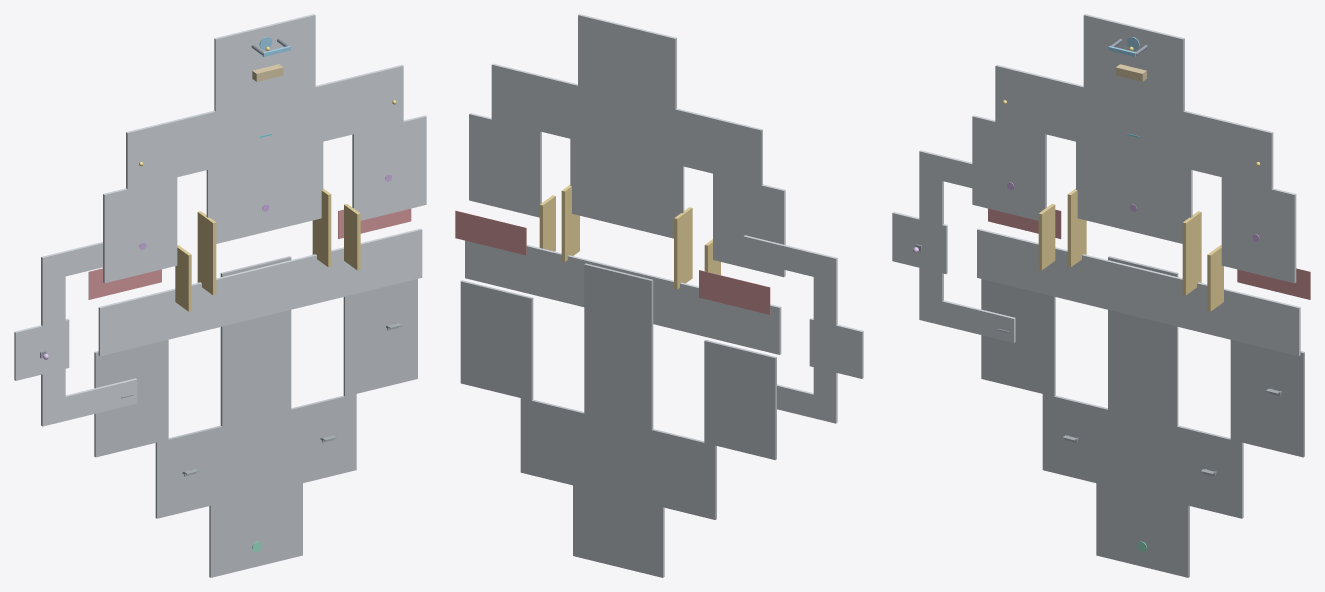
Rendered from level_09_college_admission__romant.glb.
3 views of the same model, side by side, from view 1: azimuth 30°, elevation 25°; view 2: azimuth 150°, elevation 25°; view 3: azimuth 330°, elevation 25° (orthographic). The views are drawn at different scales.
Visible parts, largest first — view 1: ADMISSIONS_HALL_0010, CENTRAL_COURTYARD_0002, CAMPUS_MIDDLE_CROSSING_0006, CENTRAL_UPPER_0009, CENTRAL_CAMPUS_SPINE_0003, EAST_WING_A_0005, FINAL_LETTER_ROOM_0011, CAMPUS_ARRIVAL_0001, WEST_WING_UPPER_0007, EAST_WING_UPPER_0008, WEST_WING_A_0004, WEST_STUDENT_DETOUR_SEG2_0013 (+9 smaller); view 2: ADMISSIONS_HALL_0010, CENTRAL_COURTYARD_0002, CAMPUS_MIDDLE_CROSSING_0006, CENTRAL_CAMPUS_SPINE_0003, CENTRAL_UPPER_0009, EAST_WING_A_0005, WEST_WING_A_0004, FINAL_LETTER_ROOM_0011, CAMPUS_ARRIVAL_0001, EAST_WING_UPPER_0008, WEST_WING_UPPER_0007, WEST_STUDENT_DETOUR_SEG2_0013 (+8 smaller); view 3: ADMISSIONS_HALL_0010, CENTRAL_COURTYARD_0002, CAMPUS_MIDDLE_CROSSING_0006, CENTRAL_UPPER_0009, EAST_WING_A_0005, CENTRAL_CAMPUS_SPINE_0003, FINAL_LETTER_ROOM_0011, CAMPUS_ARRIVAL_0001, EAST_WING_UPPER_0008, WEST_WING_A_0004, WEST_WING_UPPER_0007, WEST_STUDENT_DETOUR_SEG2_0013 (+9 smaller).
Part boxes in pixels (bbox=[...]): ADMISSIONS_HALL_0010: bbox=[126, 65, 403, 189]; CENTRAL_COURTYARD_0002: bbox=[155, 394, 356, 518]; CAMPUS_MIDDLE_CROSSING_0006: bbox=[98, 228, 422, 356]; CENTRAL_UPPER_0009: bbox=[206, 142, 323, 243]; CENTRAL_CAMPUS_SPINE_0003: bbox=[220, 256, 291, 426]; EAST_WING_A_0005: bbox=[343, 279, 417, 396]; FINAL_LETTER_ROOM_0011: bbox=[214, 14, 315, 111]; CAMPUS_ARRIVAL_0001: bbox=[209, 483, 302, 577]; WEST_WING_UPPER_0007: bbox=[103, 177, 177, 283]; EAST_WING_UPPER_0008: bbox=[352, 115, 426, 220]; WEST_WING_A_0004: bbox=[94, 339, 168, 457]; WEST_STUDENT_DETOUR_SEG2_0013: bbox=[41, 262, 65, 417]; ADMISSIONS_HALL_0010: bbox=[491, 63, 762, 185]; CENTRAL_COURTYARD_0002: bbox=[520, 398, 716, 519]; CAMPUS_MIDDLE_CROSSING_0006: bbox=[465, 240, 781, 354]; CENTRAL_CAMPUS_SPINE_0003: bbox=[584, 263, 653, 429]; CENTRAL_UPPER_0009: bbox=[570, 139, 684, 238]; EAST_WING_A_0005: bbox=[460, 280, 533, 400]; WEST_WING_A_0004: bbox=[704, 340, 776, 460]; FINAL_LETTER_ROOM_0011: bbox=[578, 14, 676, 109]; CAMPUS_ARRIVAL_0001: bbox=[573, 485, 664, 577]; EAST_WING_UPPER_0008: bbox=[469, 113, 541, 217]; WEST_WING_UPPER_0007: bbox=[713, 173, 785, 277]; WEST_STUDENT_DETOUR_SEG2_0013: bbox=[813, 263, 837, 414]; ADMISSIONS_HALL_0010: bbox=[995, 65, 1273, 189]; CENTRAL_COURTYARD_0002: bbox=[1042, 394, 1243, 518]; CAMPUS_MIDDLE_CROSSING_0006: bbox=[977, 228, 1300, 356]; CENTRAL_UPPER_0009: bbox=[1076, 142, 1192, 243]; EAST_WING_A_0005: bbox=[1230, 340, 1304, 457]; CENTRAL_CAMPUS_SPINE_0003: bbox=[1108, 256, 1178, 426]; FINAL_LETTER_ROOM_0011: bbox=[1083, 14, 1184, 111]; CAMPUS_ARRIVAL_0001: bbox=[1096, 483, 1189, 577]; EAST_WING_UPPER_0008: bbox=[1221, 177, 1296, 283]; WEST_WING_A_0004: bbox=[981, 279, 1055, 396]; WEST_WING_UPPER_0007: bbox=[972, 115, 1046, 220]; WEST_STUDENT_DETOUR_SEG2_0013: bbox=[919, 161, 943, 314].
Size of the model in its own units: 106 by 136 by 12.48.
